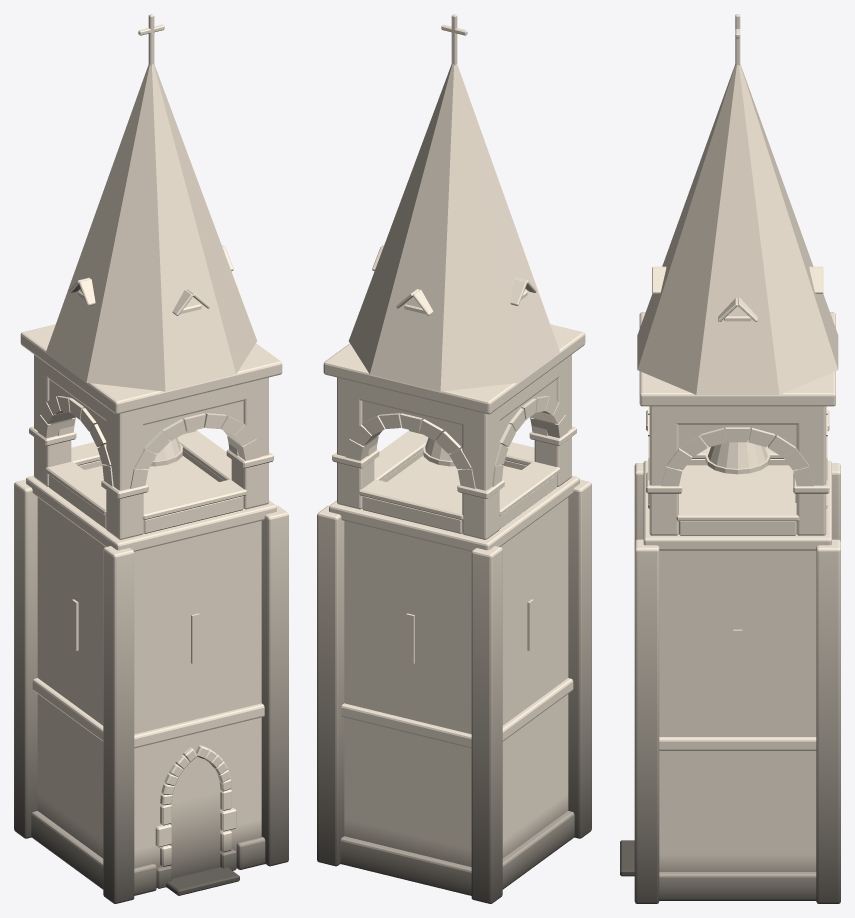
Rendered from SM_VK_BellTower.fbx.
The picture shows the model from 3 angles, left to right: view 1: azimuth 30°, elevation 25°; view 2: azimuth 150°, elevation 25°; view 3: azimuth 270°, elevation 25°; orthographic projection.
Parts seen in each view (by area): view 1: SM_VK_BellTower.001; view 2: SM_VK_BellTower.001; view 3: SM_VK_BellTower.001.
Boxes of the visible parts, <box> form: SM_VK_BellTower.001: <box>14,14,288,903</box>; SM_VK_BellTower.001: <box>317,14,591,903</box>; SM_VK_BellTower.001: <box>620,14,840,903</box>.
Bounding box in the file's own units: 4.2 × 19.04 × 4.5.
